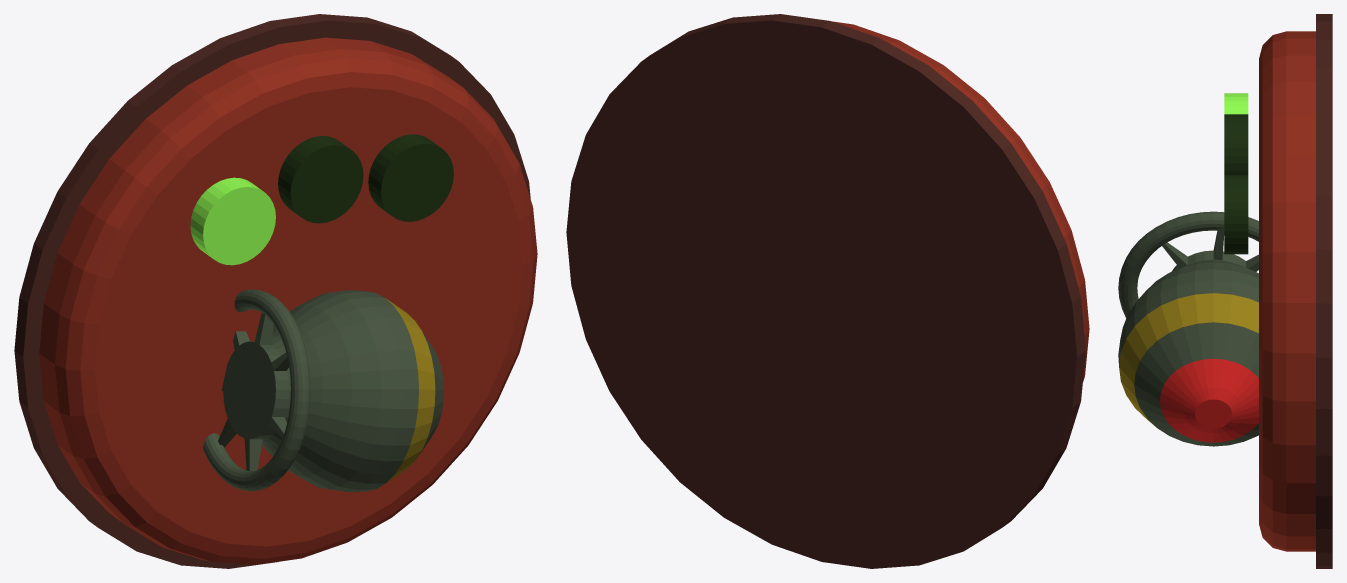
Rendered from NukeButton2.glb.
3 views of the same model, side by side, from view 1: azimuth 30°, elevation 25°; view 2: azimuth 150°, elevation 25°; view 3: azimuth 270°, elevation 25° (orthographic). The views are drawn at different scales.
Parts seen in each view (by area): view 1: Cylinder.009, Cylinder.005, Cylinder.008, Cylinder.006, Cylinder.007; view 2: Cylinder.009; view 3: Cylinder.009, Cylinder.005, Cylinder.008, Cylinder.006, Cylinder.007.
Boxes of the visible parts, left/top/right/bottom form: Cylinder.009: left=14, top=14, right=537, bottom=568; Cylinder.005: left=203, top=289, right=444, bottom=492; Cylinder.008: left=368, top=134, right=453, bottom=221; Cylinder.006: left=278, top=136, right=363, bottom=223; Cylinder.007: left=190, top=177, right=275, bottom=265; Cylinder.009: left=566, top=14, right=1089, bottom=568; Cylinder.009: left=1259, top=14, right=1332, bottom=568; Cylinder.005: left=1118, top=211, right=1258, bottom=446; Cylinder.008: left=1224, top=175, right=1248, bottom=254; Cylinder.006: left=1224, top=114, right=1248, bottom=174; Cylinder.007: left=1224, top=93, right=1248, bottom=114.
Size of the model in its own units: 1 by 1 by 0.3858.
